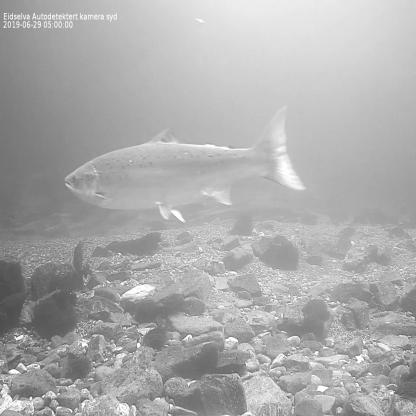salmon: (60, 102, 307, 226)
